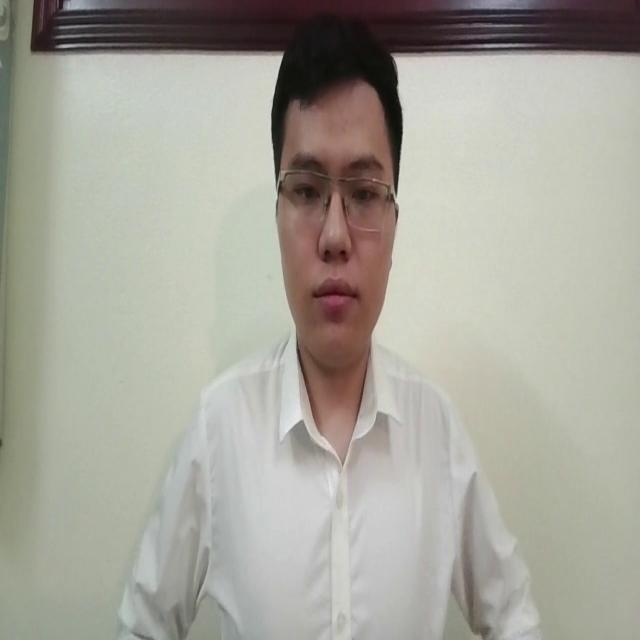student: (111, 9, 536, 640)
